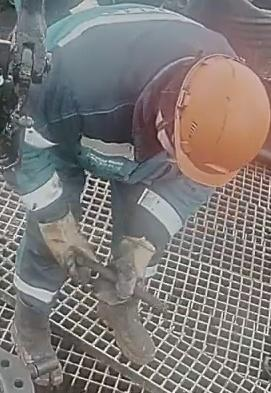gloves: (36, 210, 103, 286), (90, 238, 157, 309)
helmet: (169, 53, 271, 187)
vest: (19, 8, 247, 212)
